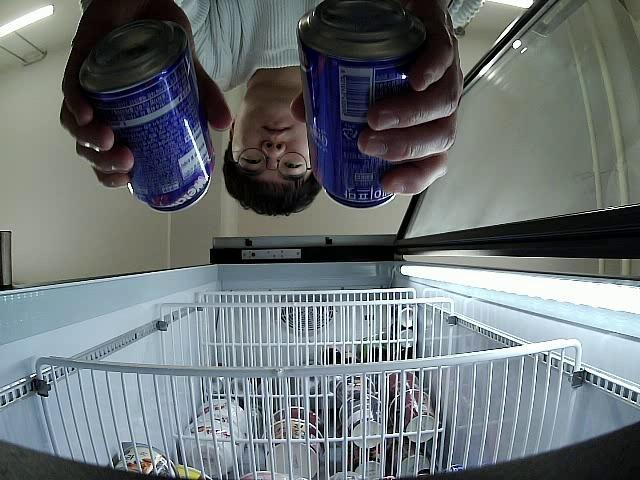14_welchsGrape: (296, 0, 425, 211), (78, 20, 216, 212)
